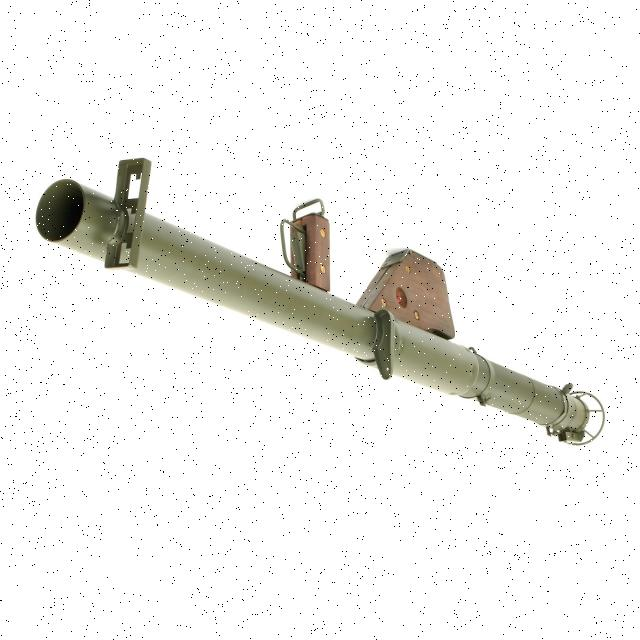bazooka: (34, 151, 612, 449)
